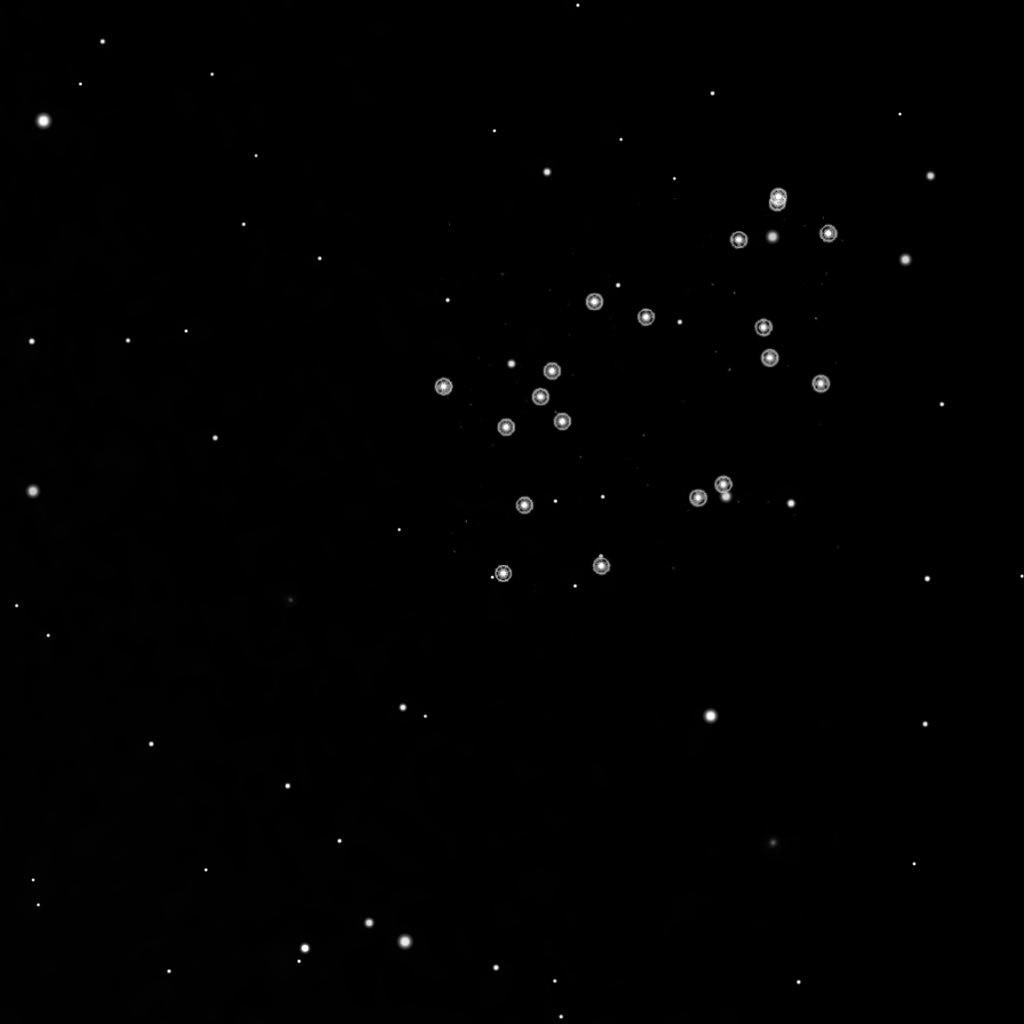canis_major: (486, 288, 659, 440)
